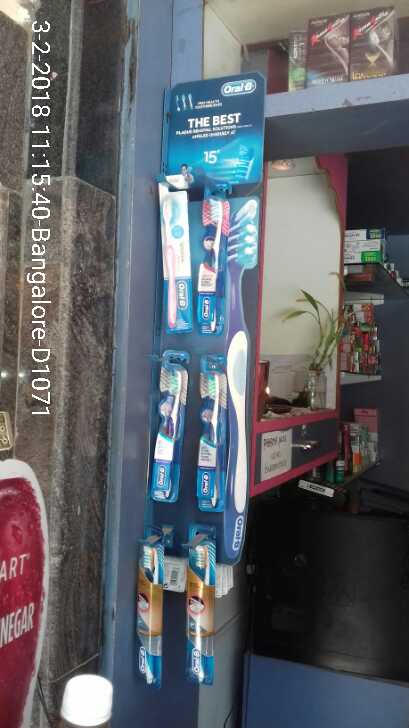oralb: (136, 530, 226, 690), (149, 355, 224, 516), (151, 189, 229, 334)
